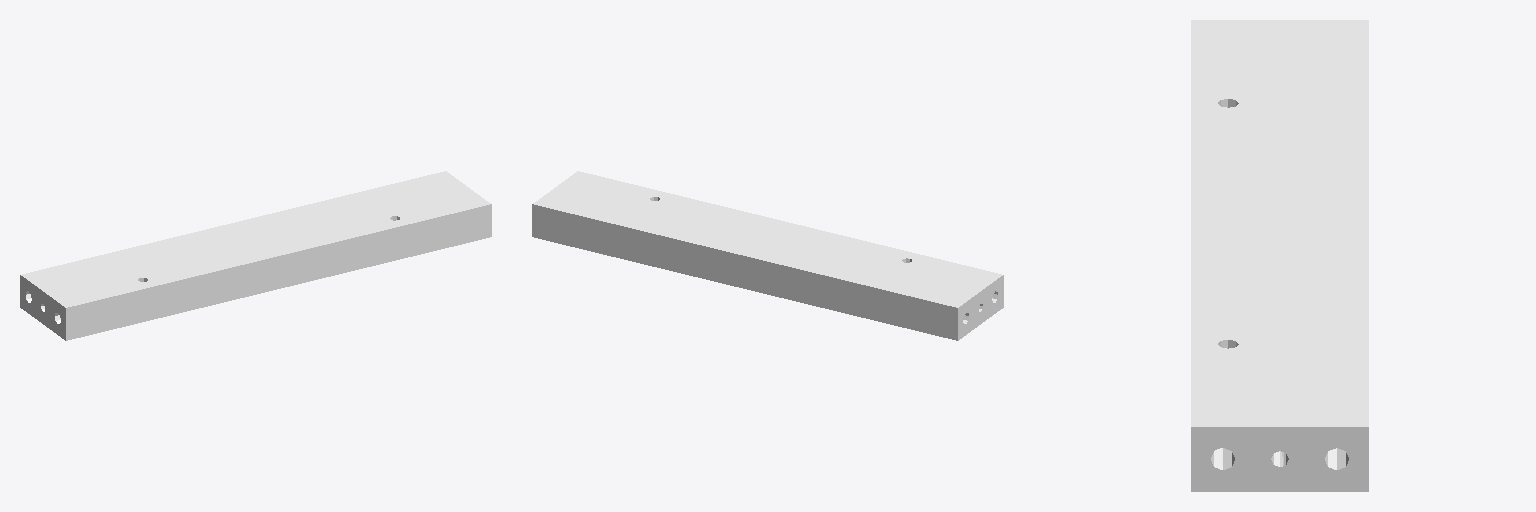
robot.urdf — ikea_stefan_short:
<?xml version="1.0" ?>
<robot name="ikea_stefan_short">
  <link name="object_link">
    <inertial>
      <origin rpy="0 0 0" xyz="0 0 0"/>
       <mass value=".2"/>
       <inertia ixx="0" ixy="0" ixz="0" iyy="0" iyz="0" izz="0"/>
    </inertial>
    <visual>
      <origin rpy="0 0 0" xyz="0 0 0"/>
      <geometry>
				<mesh filename="ikea_stefan_short.stl" scale="1 1 1"/>
      </geometry>
       <material name="white">
        <color rgba="1 1 1 1"/>
      </material>
    </visual>
    <collision>
      <origin rpy="0 0 0" xyz="0 0 0"/>
      <geometry>
      <mesh filename="ikea_stefan_short.stl" scale="1 1 1"/>
      </geometry>
    </collision>
  </link>
</robot>

--- What the picture shows (computed from the rendered views, not written in the file) ---
Views: 3 orthographic renders of the robot side by side, from view 1: azimuth 30°, elevation 25°; view 2: azimuth 150°, elevation 25°; view 3: azimuth 270°, elevation 25°.
Robot: ikea_stefan_short — 1 links, 0 joints (none); root link object_link; default pose: every joint at zero.
Links seen in each view (by area): view 1: object_link; view 2: object_link; view 3: object_link.
Boxes of the visible links, x1,y1,x2,y2 form: object_link: (20, 171, 491, 340); object_link: (532, 171, 1003, 340); object_link: (1191, 20, 1368, 491).
Size in the robot's own frame: 0.27 by 0.05 by 0.02 metres.
1 mesh visuals loaded from 1 distinct referenced files (1 binary STL).
